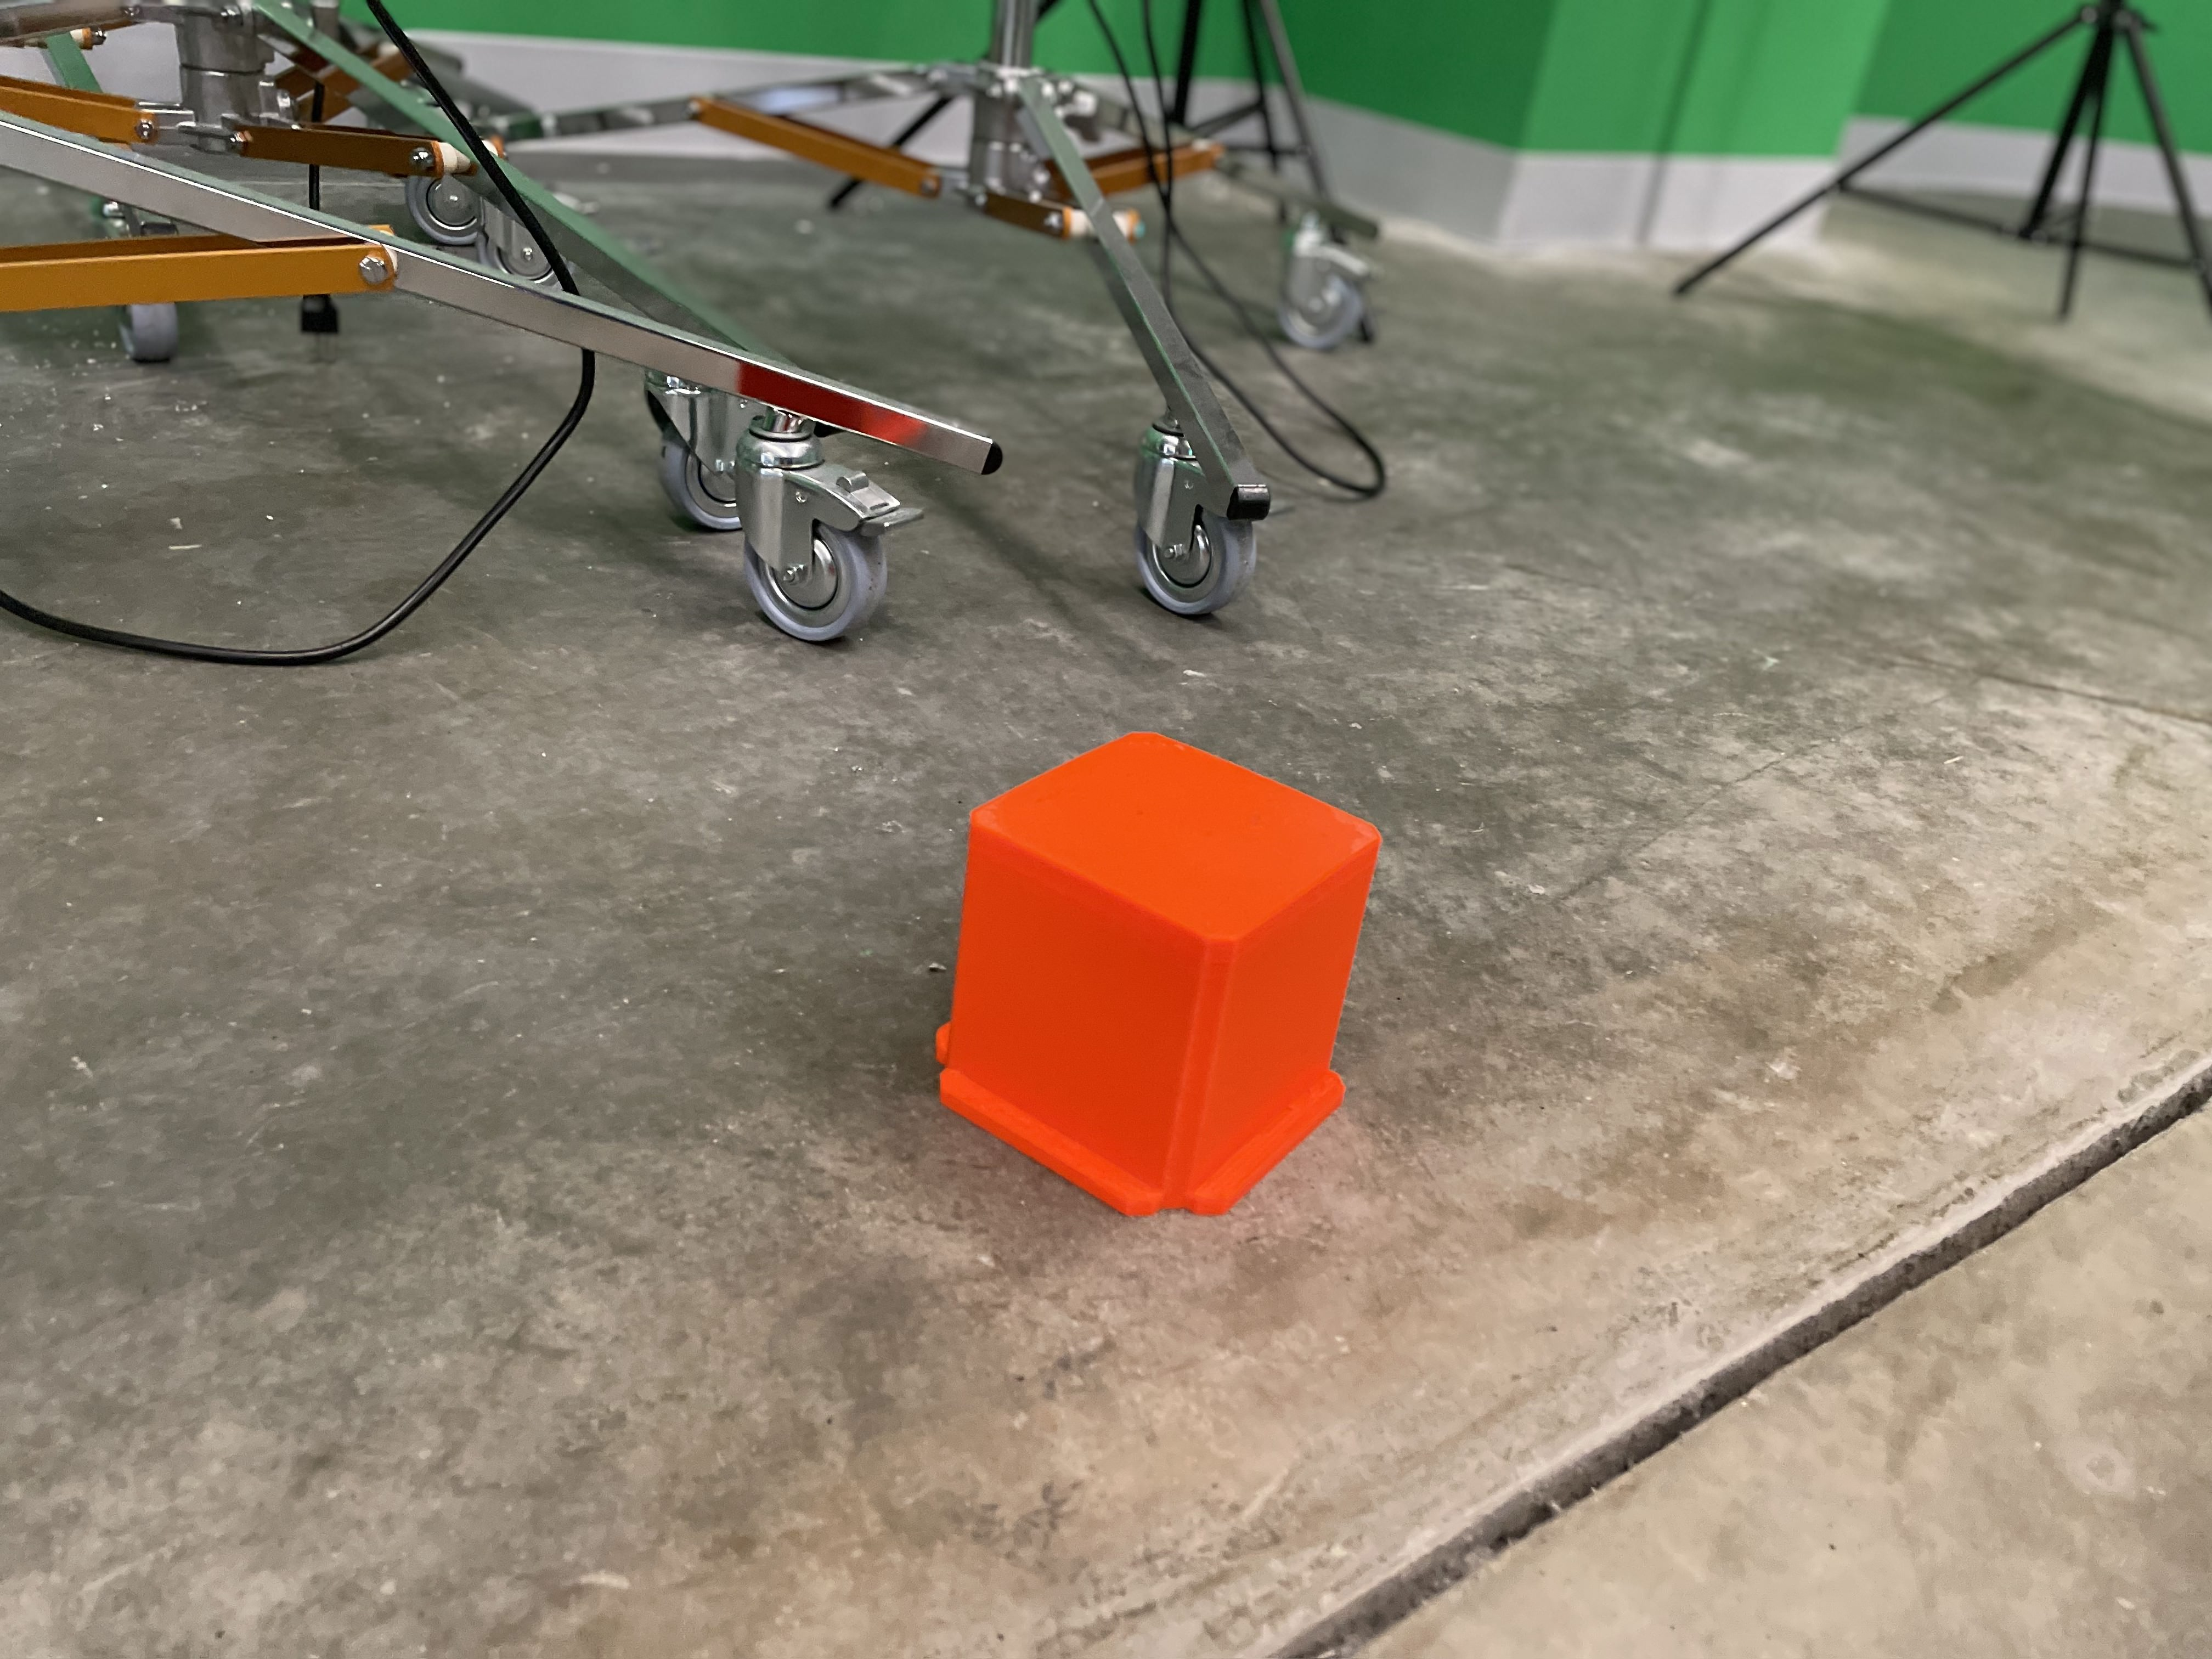payload1: (928, 718, 1395, 1230)
